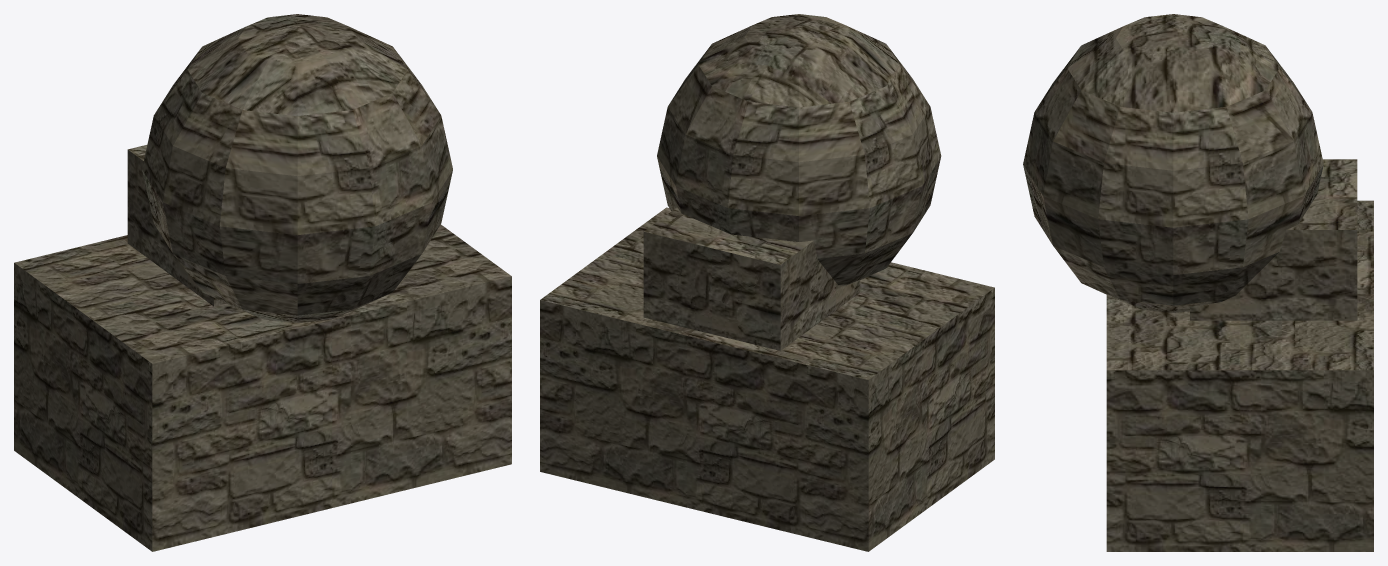
File: haetae_01.glb
3 renders of one model, left to right at view 1: azimuth 30°, elevation 25°; view 2: azimuth 150°, elevation 25°; view 3: azimuth 270°, elevation 25°, orthographic. The views are drawn at different scales.
Visible parts, largest first — view 1: haetae_01; view 2: haetae_01; view 3: haetae_01.
Part boxes in pixels (<box>): haetae_01: <box>14,14,511,551</box>; haetae_01: <box>540,14,994,551</box>; haetae_01: <box>1023,14,1373,551</box>.
Bounding box in the file's own units: 1.2 × 1.45 × 1.05.
Materials: 1 (1 with a texture image).
